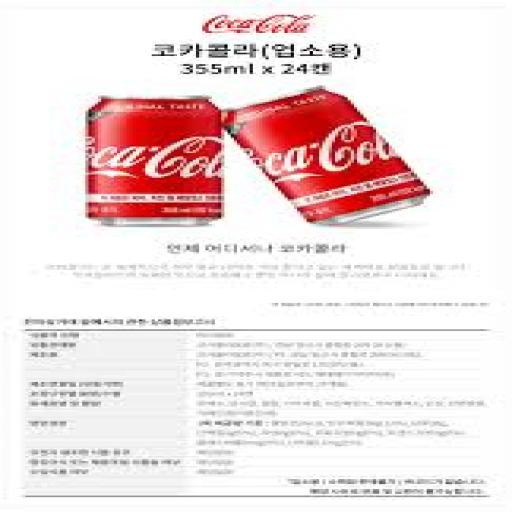Coca: (220, 78, 456, 232), (78, 88, 234, 230)
